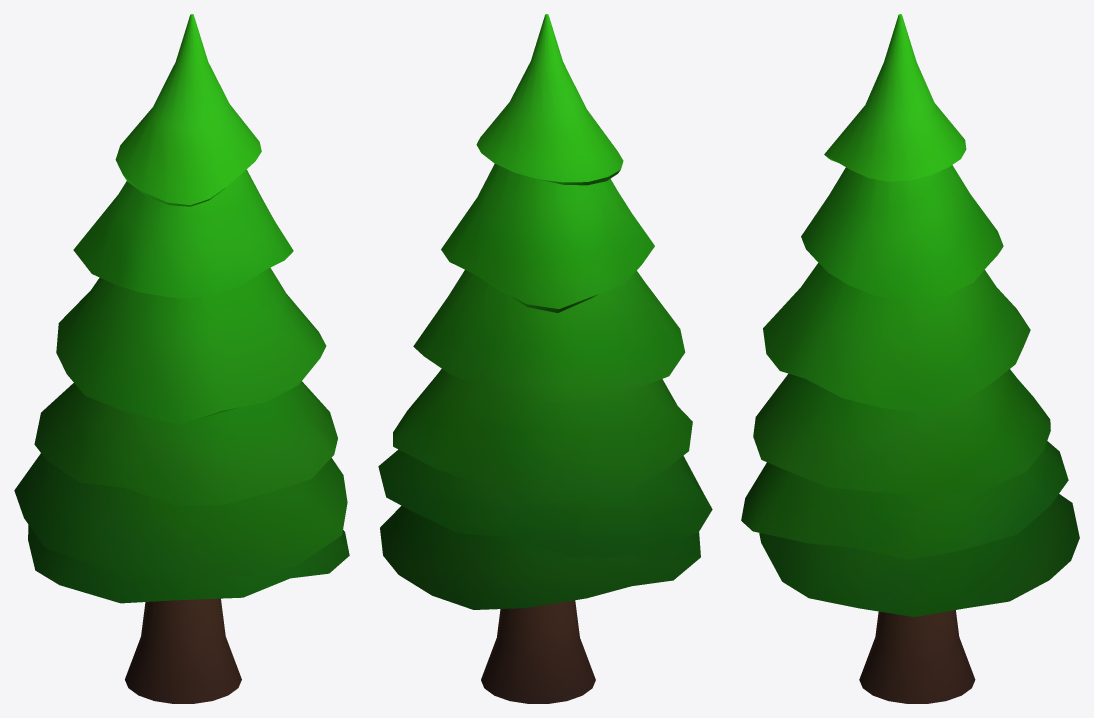
The model's file is Tree5.glb.
3 renders of one model, left to right at view 1: azimuth 30°, elevation 25°; view 2: azimuth 150°, elevation 25°; view 3: azimuth 270°, elevation 25°, orthographic.
Visible parts, largest first — view 1: Tree; view 2: Tree; view 3: Tree.
Part boxes in pixels (x1,y1,x2,y2): Tree: (14, 14, 349, 703); Tree: (378, 14, 712, 703); Tree: (741, 14, 1079, 703).
Size of the model in its own units: 10.57 by 23 by 10.62.
2 materials, 2 textured.
